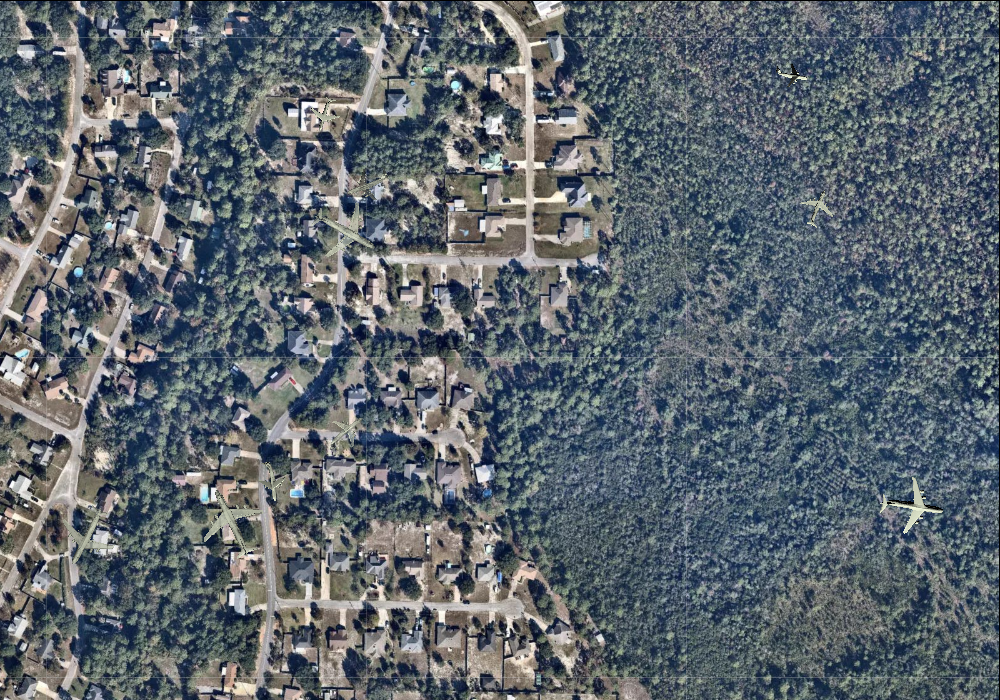plane: (185, 475, 277, 570), (298, 186, 390, 277), (45, 494, 127, 578), (875, 471, 948, 542), (315, 404, 376, 464), (339, 156, 395, 210), (793, 182, 842, 232), (304, 92, 346, 135), (250, 459, 290, 503), (772, 56, 810, 91)
